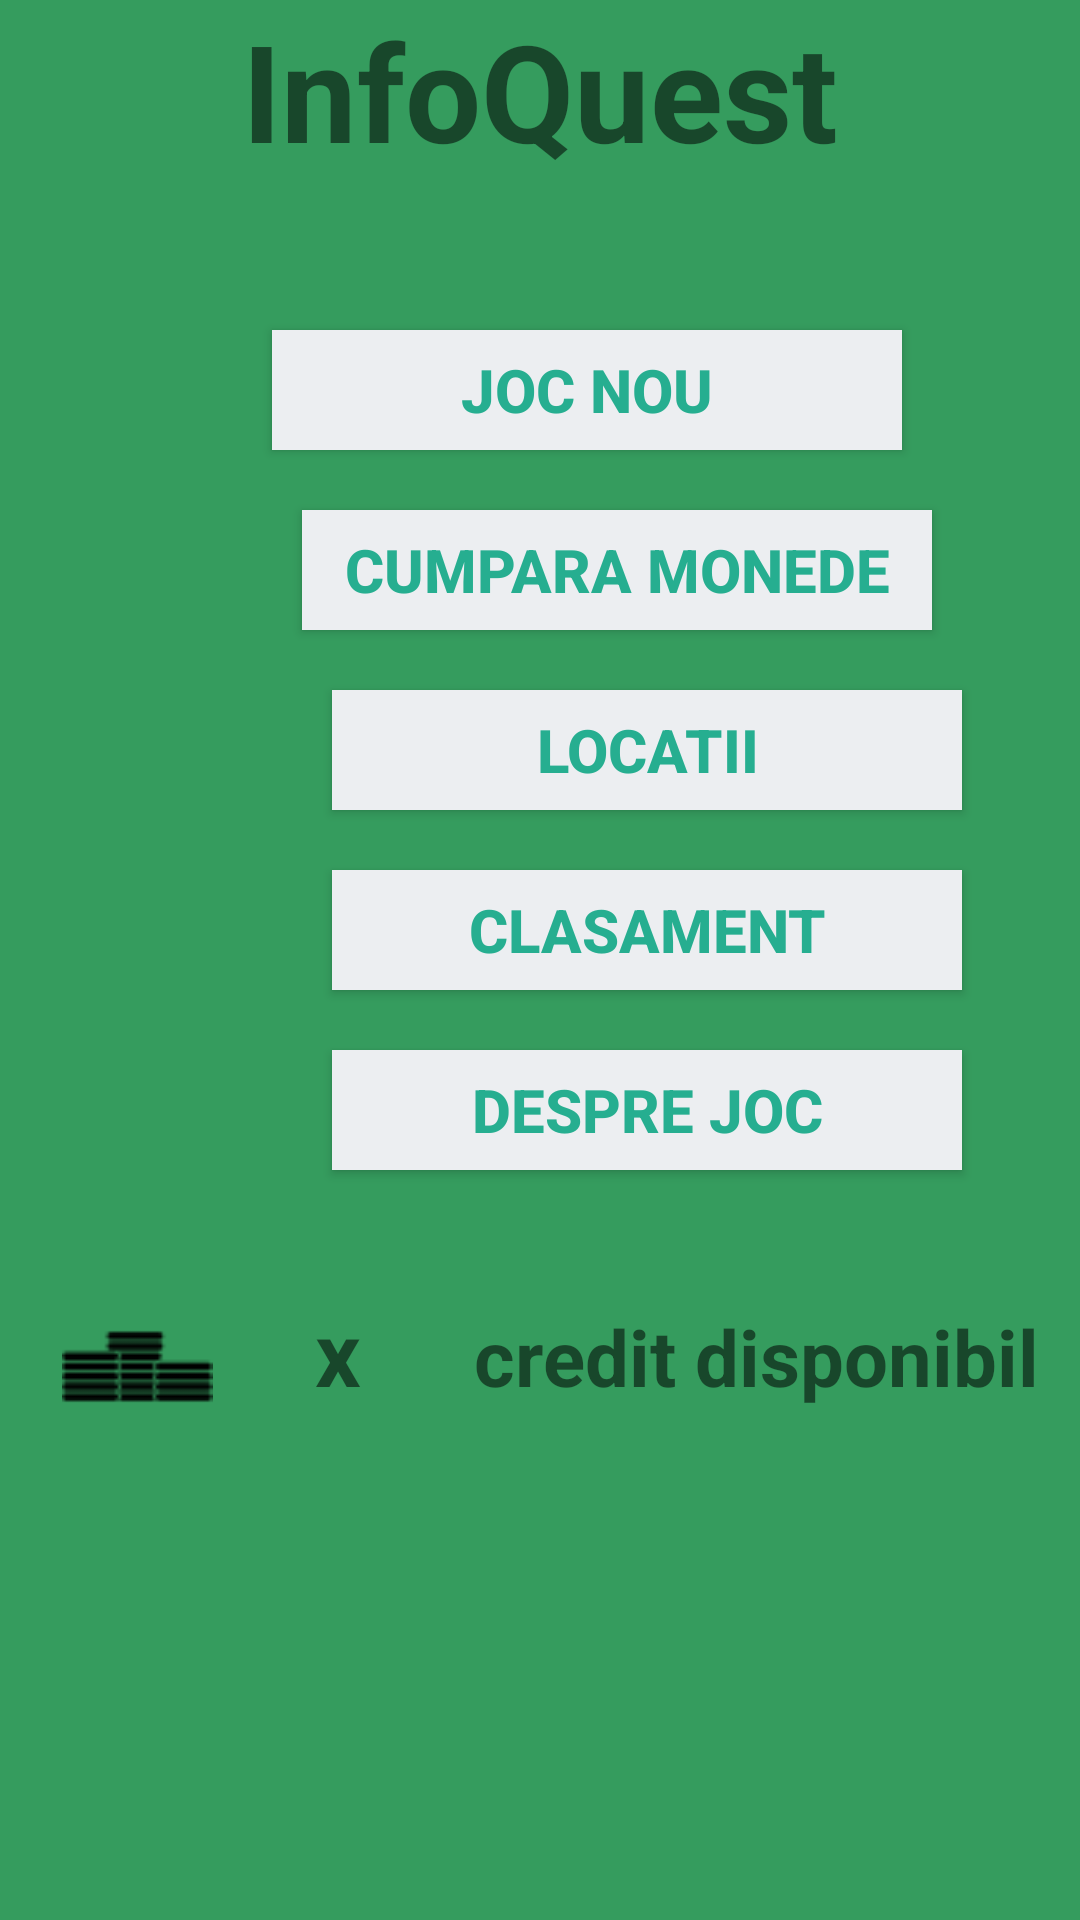

Point at icon controls on the screen. Image size 1080px x 1920px, points as (x,y).
coins: (137,1366)
